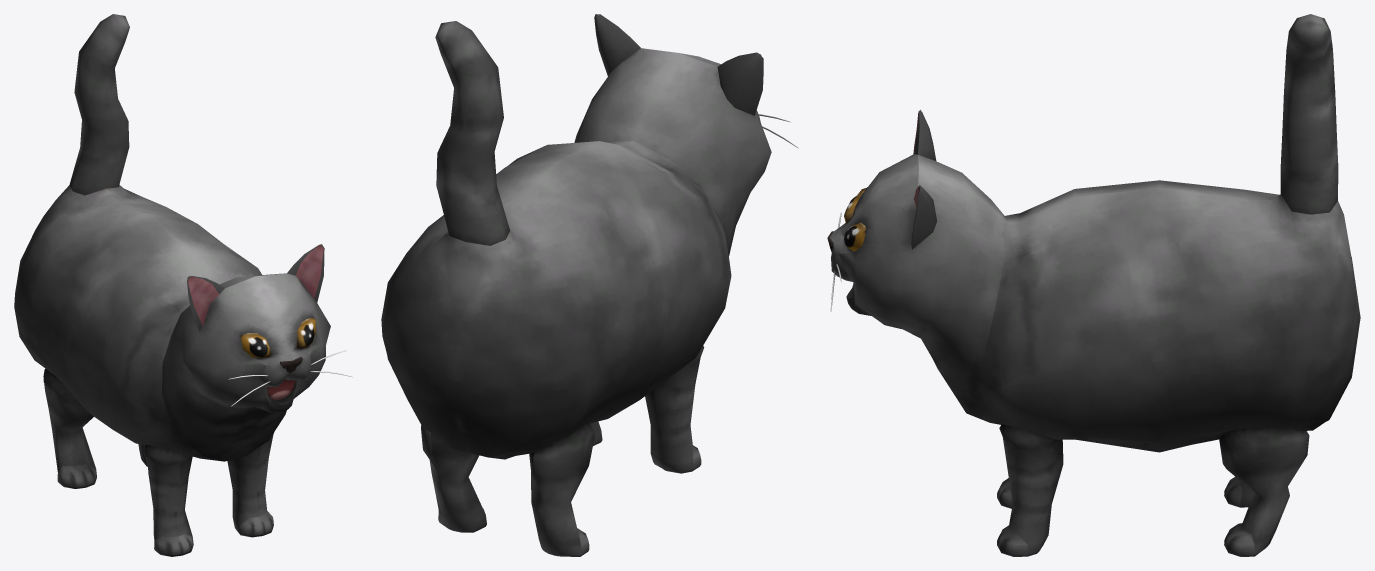
The model's file is lolcat.glb.
3 views of the same model, side by side, from view 1: azimuth 30°, elevation 25°; view 2: azimuth 150°, elevation 25°; view 3: azimuth 270°, elevation 25° (orthographic). The views are drawn at different scales.
Visible parts, largest first — view 1: LolCat; view 2: LolCat; view 3: LolCat.
Part boxes in pixels (x1=…): LolCat: x1=14, y1=14, x2=352, y2=556; LolCat: x1=381, y1=14, x2=798, y2=556; LolCat: x1=827, y1=14, x2=1360, y2=556.
Size of the model in its own units: 1.89 by 4.29 by 3.97.
1 material, 1 textured.
